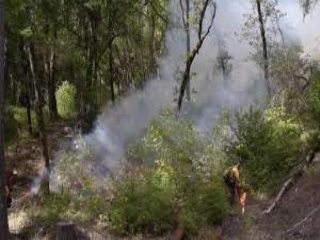smoke: (42, 77, 170, 193)
